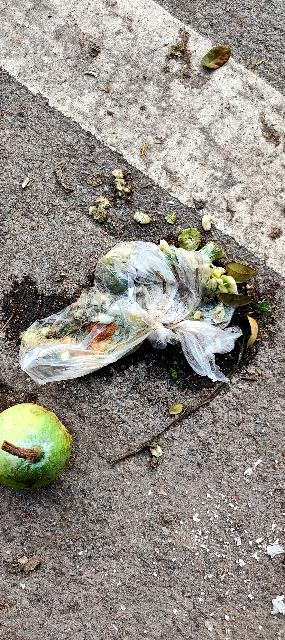polythene: (10, 236, 256, 407)
